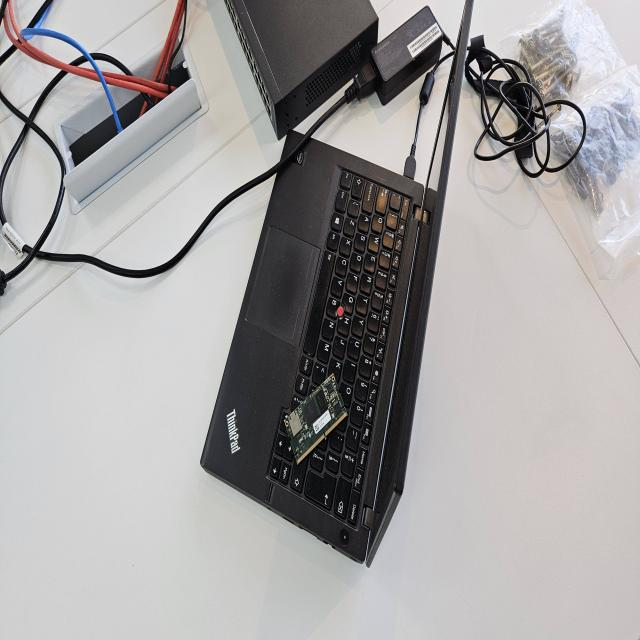som: (286, 372, 352, 466)
